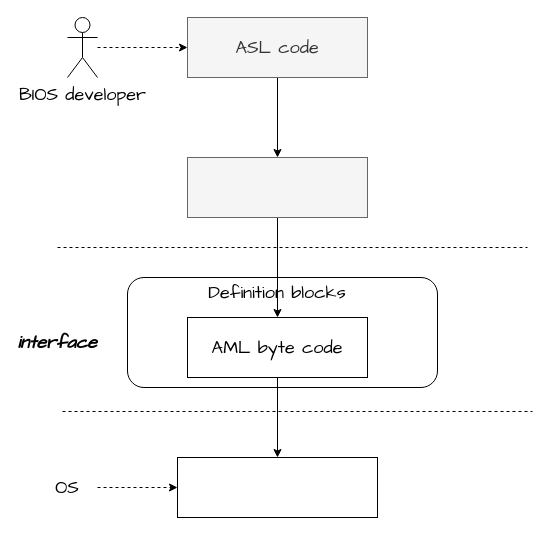
Image size: 551x535. Some labels were removed from this diagram. The shapes that lost their labels are listed below. From the top down, each one's centre as x and y in pixels, then its label:
point (277, 187): ASL compiler
point (277, 487): AML interpreter
